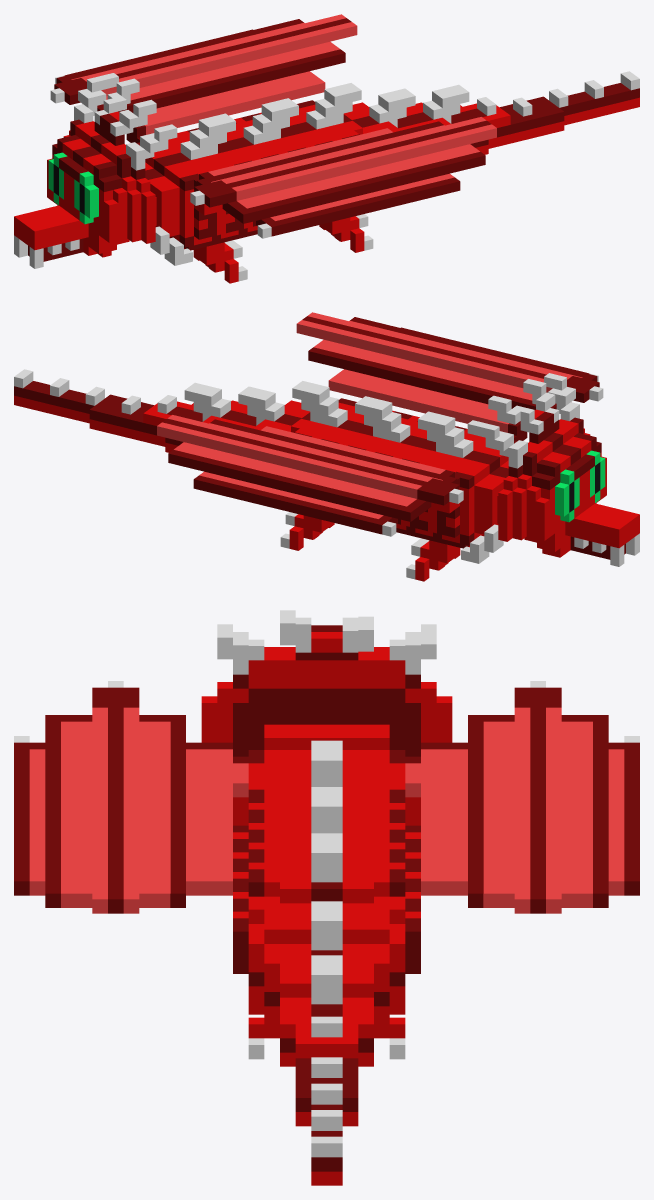
Rendered from Dragon.obj.
3 renders of one model, top to bottom at view 1: azimuth 30°, elevation 25°; view 2: azimuth 150°, elevation 25°; view 3: azimuth 270°, elevation 25°, orthographic. The views are drawn at different scales.
Bounding box in the file's own units: 6.8 × 2 × 4.
1 material, 1 textured.
